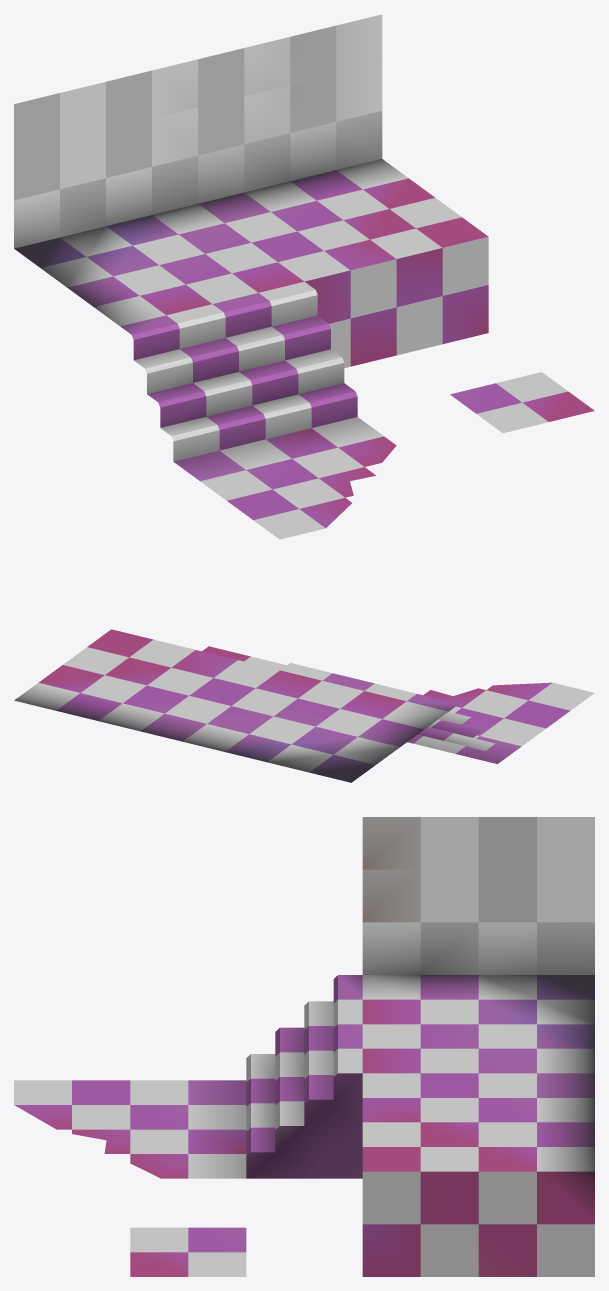
Rendered from sceneA.glb.
The picture shows the model from 3 angles, top to bottom: view 1: azimuth 30°, elevation 25°; view 2: azimuth 150°, elevation 25°; view 3: azimuth 270°, elevation 25°; orthographic projection. The views are drawn at different scales.
Visible parts, largest first — view 1: MapA; view 2: MapA; view 3: MapA.
Part boxes in pixels (box(x1,y1,x2,y2)): MapA: box(14, 14, 594, 539); MapA: box(14, 629, 594, 782); MapA: box(14, 817, 594, 1276).
Bounding box in the file's own units: 16 × 10 × 20.
